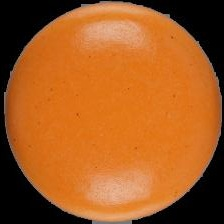67544-655: (0, 0, 224, 224)
